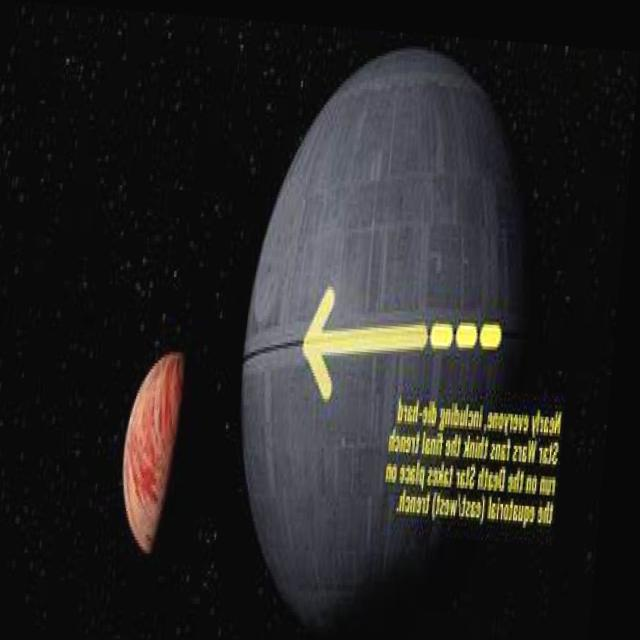deathStar: (229, 29, 547, 640)
